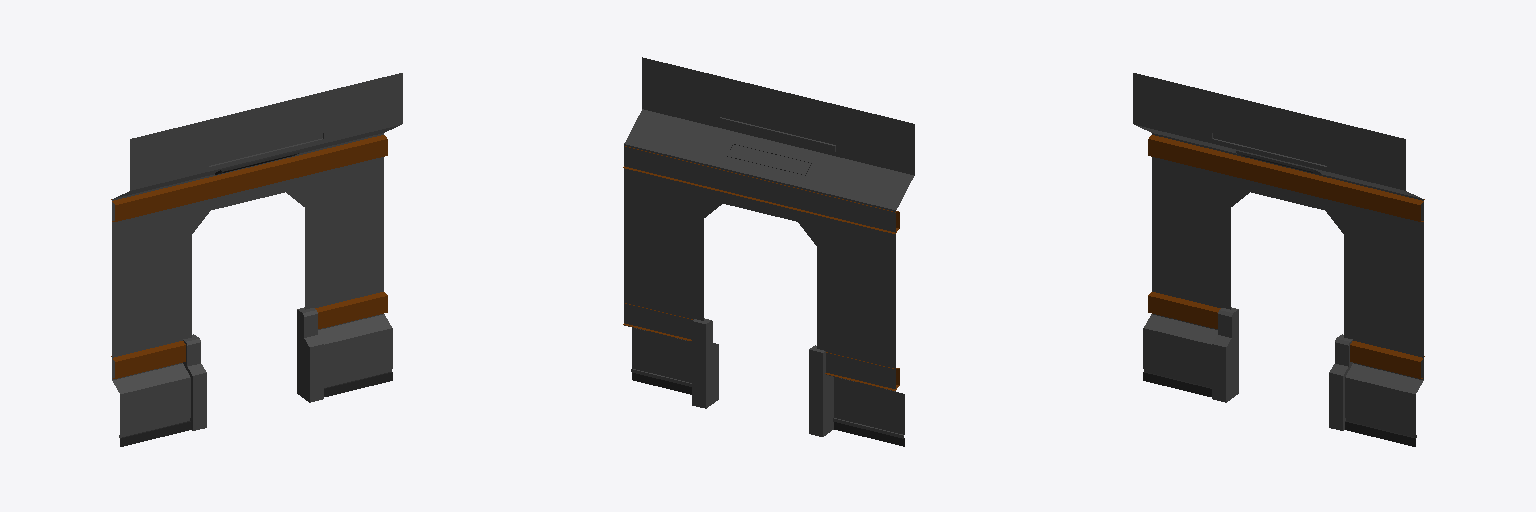
The model's file is DoorSingle_Wall_SideB.obj.
The picture shows the model from 3 angles: view 1: azimuth 30°, elevation 25°; view 2: azimuth 150°, elevation 25°; view 3: azimuth 330°, elevation 25°; orthographic projection.
Visible parts, largest first — view 1: DoorSingle_Wall_SideB_Plane.023; view 2: DoorSingle_Wall_SideB_Plane.023; view 3: DoorSingle_Wall_SideB_Plane.023.
Part boxes in pixels (x1,y1,x2,y2): DoorSingle_Wall_SideB_Plane.023: (111, 73, 402, 446); DoorSingle_Wall_SideB_Plane.023: (623, 57, 914, 446); DoorSingle_Wall_SideB_Plane.023: (1133, 73, 1424, 446).
Bounding box in the file's own units: 4 × 4.43 × 0.5307.